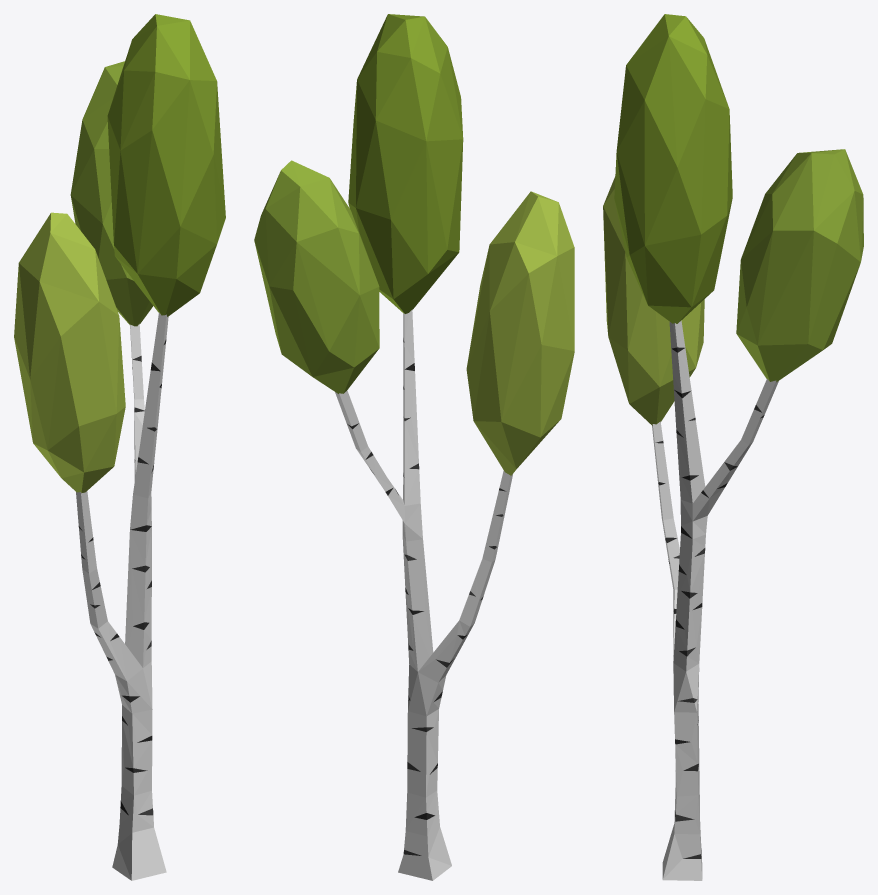
Rendered from Tree_Birch_01.fbx.
3 views of the same model, side by side, from view 1: azimuth 30°, elevation 25°; view 2: azimuth 150°, elevation 25°; view 3: azimuth 270°, elevation 25° (orthographic). The views are drawn at different scales.
Parts seen in each view (by area): view 1: Tree_Birch_01; view 2: Tree_Birch_01; view 3: Tree_Birch_01.
Boxes of the visible parts, box(x1,y1,x2,y2) form: Tree_Birch_01: box(14, 14, 225, 880); Tree_Birch_01: box(254, 14, 574, 880); Tree_Birch_01: box(603, 14, 863, 880).
Bounding box in the file's own units: 2.84 × 10.03 × 2.74.
